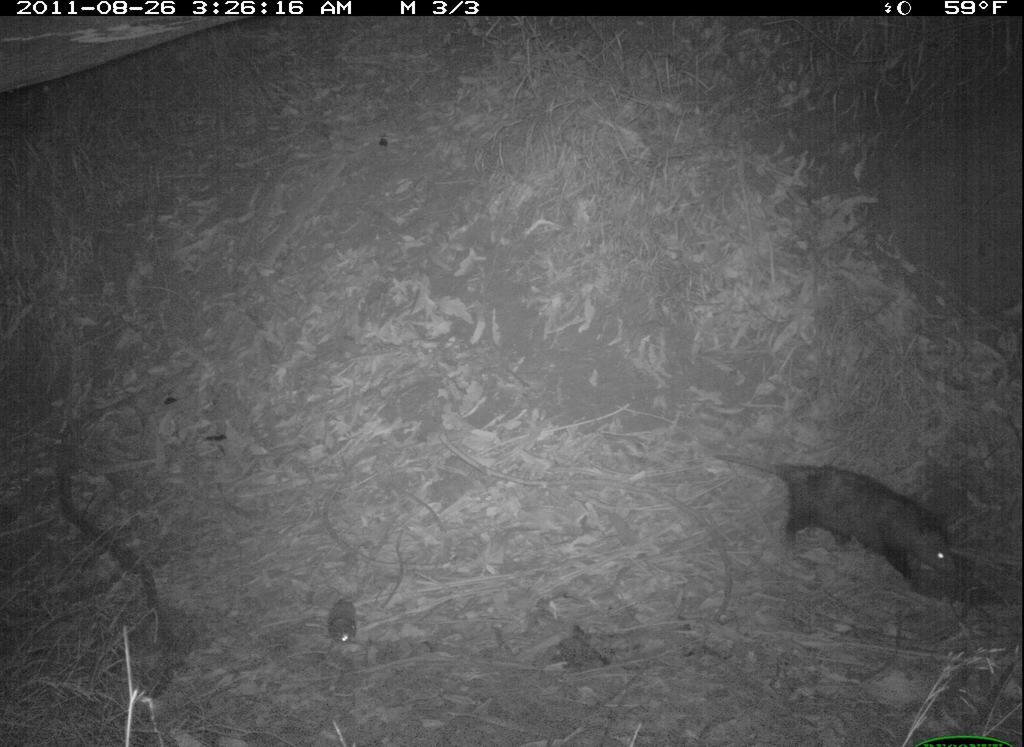opossum: (725, 442, 967, 601)
